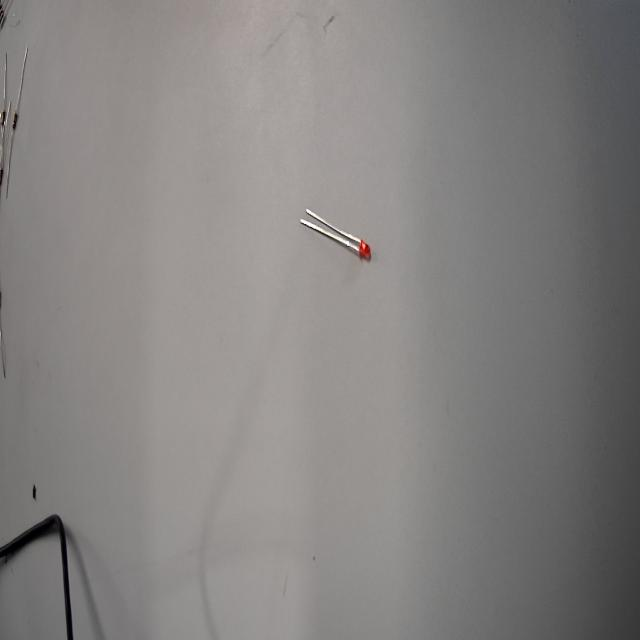LED_red: (336, 200, 380, 280)
